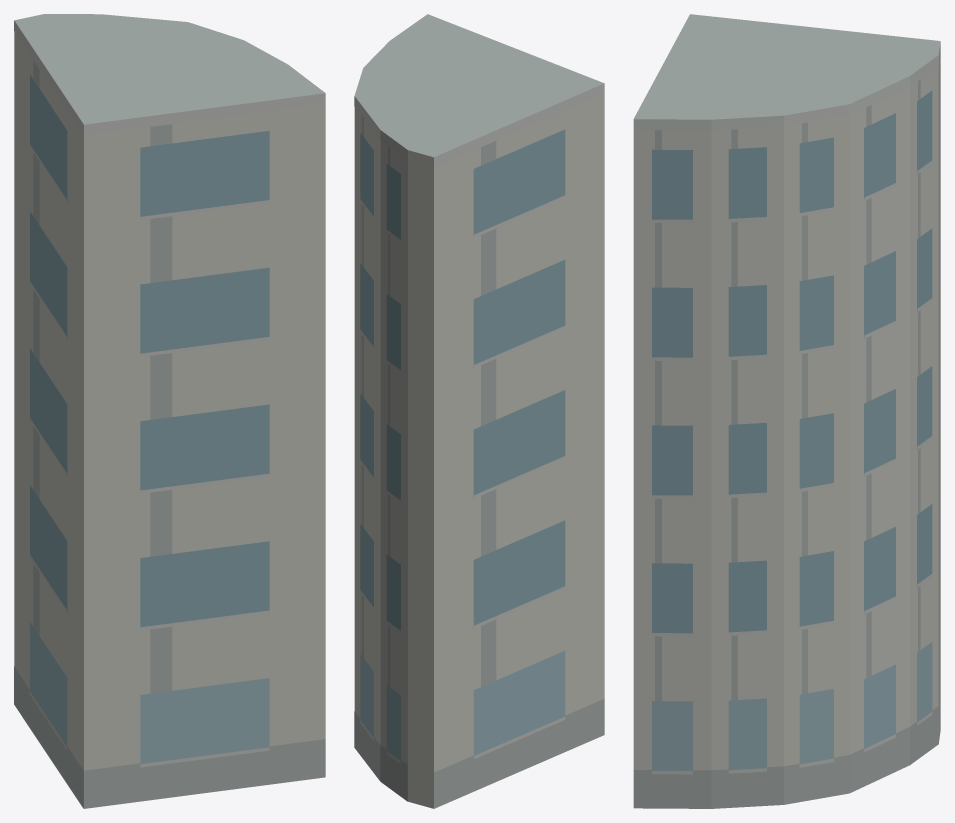
Rendered from survey-upis-32730886.glb.
3 views of the same model, side by side, from view 1: azimuth 30°, elevation 25°; view 2: azimuth 150°, elevation 25°; view 3: azimuth 270°, elevation 25° (orthographic). The views are drawn at different scales.
Visible parts, largest first — view 1: survey-upis-32730886.tmp; view 2: survey-upis-32730886.tmp; view 3: survey-upis-32730886.tmp.
Part boxes in pixels (box(x1,y1,x2,y2)): survey-upis-32730886.tmp: box(14, 14, 325, 808); survey-upis-32730886.tmp: box(354, 14, 604, 808); survey-upis-32730886.tmp: box(633, 14, 940, 808).
Bounding box in the file's own units: 5.03 × 15.25 × 6.17.
